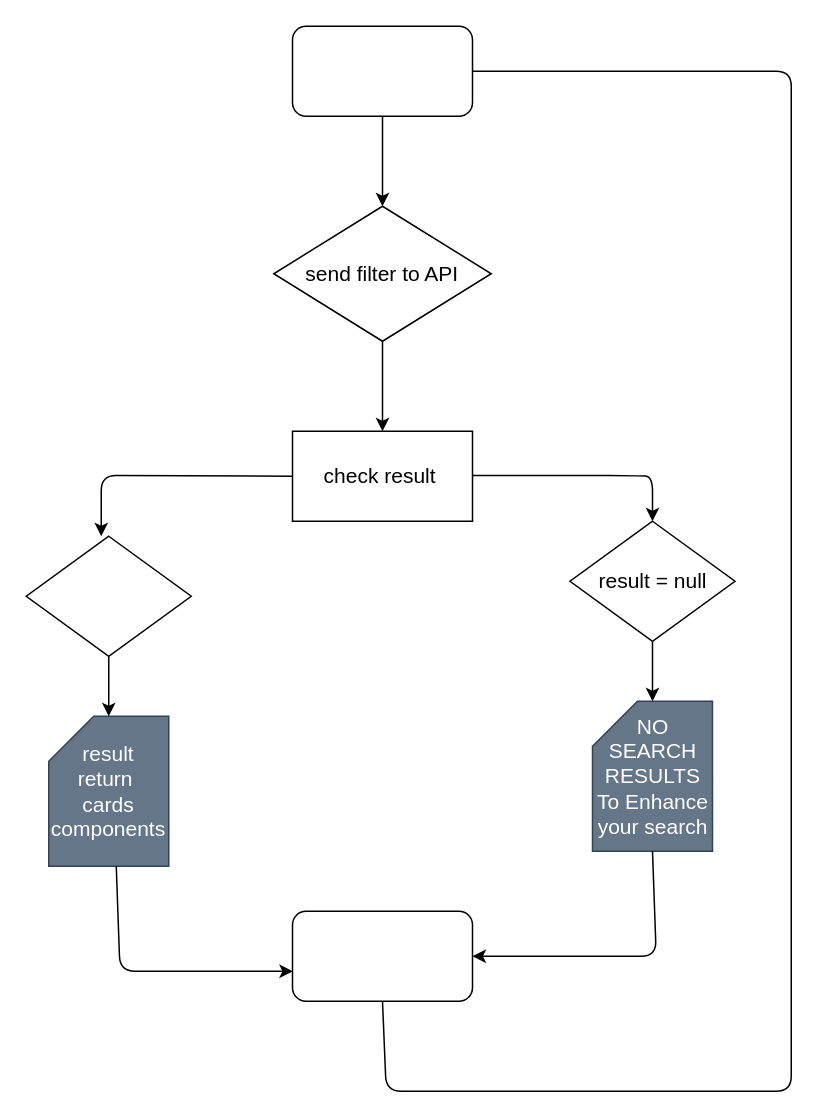
Image size: 819x1119. Some labels were removed from this diagram. The centre of each missing label's shape, as x and y in pixels:
"get filter from url query" belongs at pixel 381 70.
"Make another search" belongs at pixel 381 955.
"result = data" belongs at pixel 108 595.
